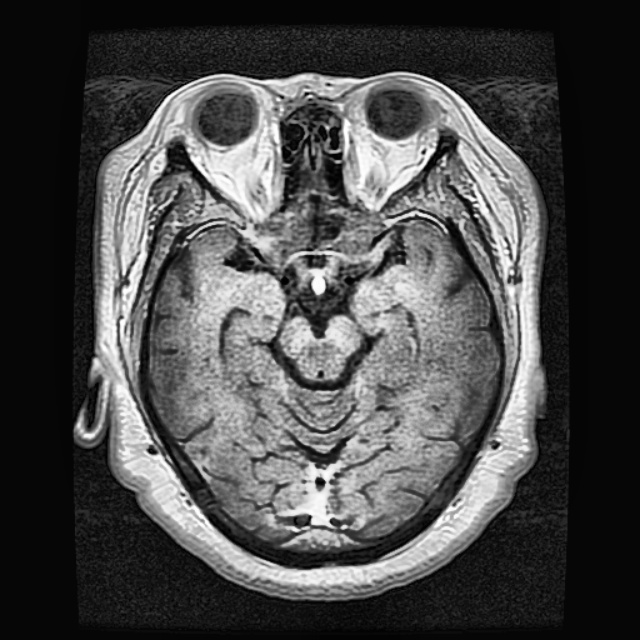Pituitary: (295, 258, 343, 304)
